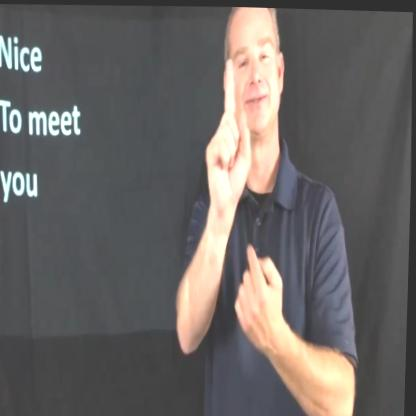NiceToMeetYou: (189, 55, 299, 338)
